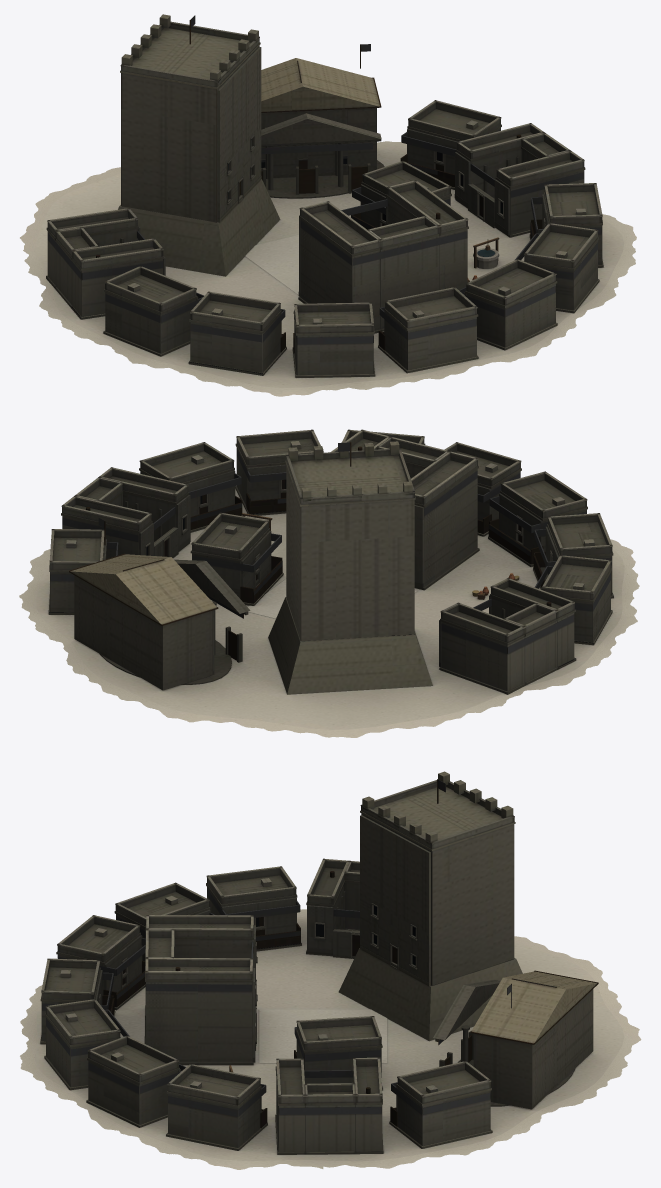
File: classical-town-medium-b-israelite.glb
The picture shows the model from 3 angles, top to bottom: view 1: azimuth 30°, elevation 25°; view 2: azimuth 150°, elevation 25°; view 3: azimuth 270°, elevation 25°; orthographic projection.
Parts seen in each view (by area): view 1: LOD0; view 2: LOD0; view 3: LOD0.
Part boxes in pixels (box(x1,y1,x2,y2)): LOD0: box(20, 14, 636, 396); LOD0: box(19, 429, 639, 737); LOD0: box(20, 771, 641, 1169).
Size of what is drawn, in the model's own units: 5.93 by 2.3 by 5.93.
3 materials, 3 textured.
